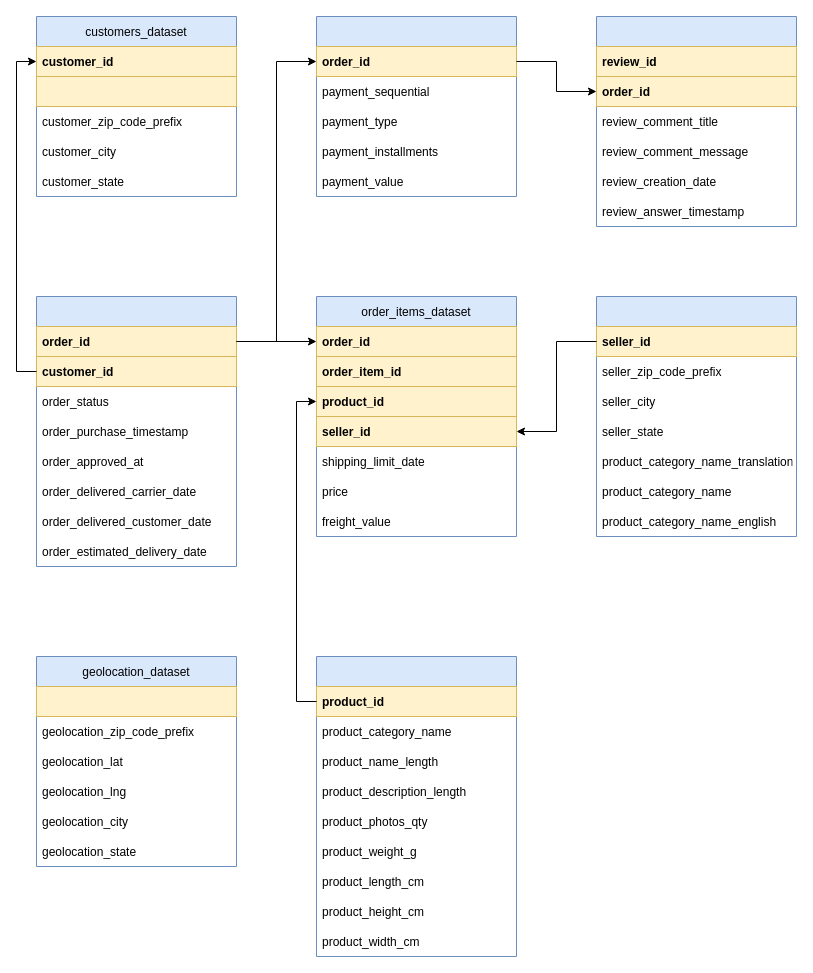
This 813x973 diagram has some shape labels left out. Here are the shapes that lost their labels. From the top down, the box of each, then its label:
(36, 76, 236, 106): customer_unique_id
(316, 16, 516, 196): order_payments_dataset
(596, 16, 796, 226): order_reviews_dataset
(36, 296, 236, 566): orders_dataset
(596, 296, 796, 536): sellers_dataset
(36, 686, 236, 716): null
(316, 656, 516, 956): products_dataset
